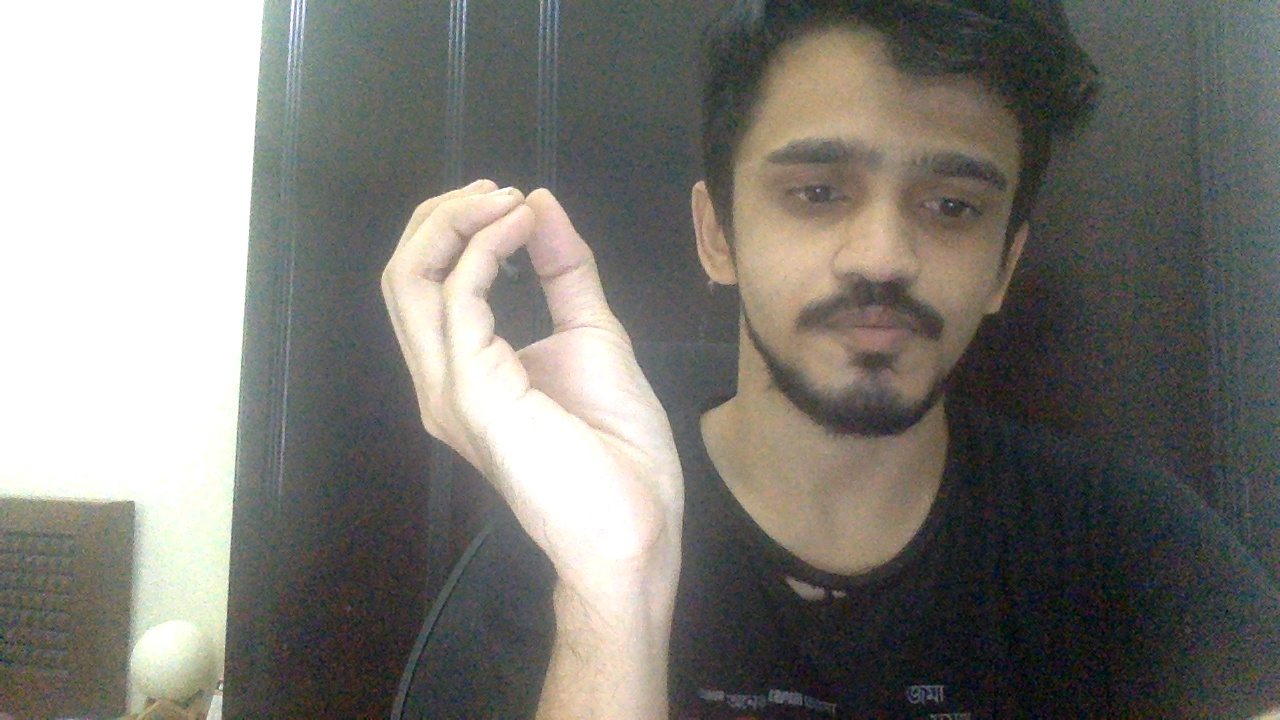zero: (379, 177, 685, 567)
